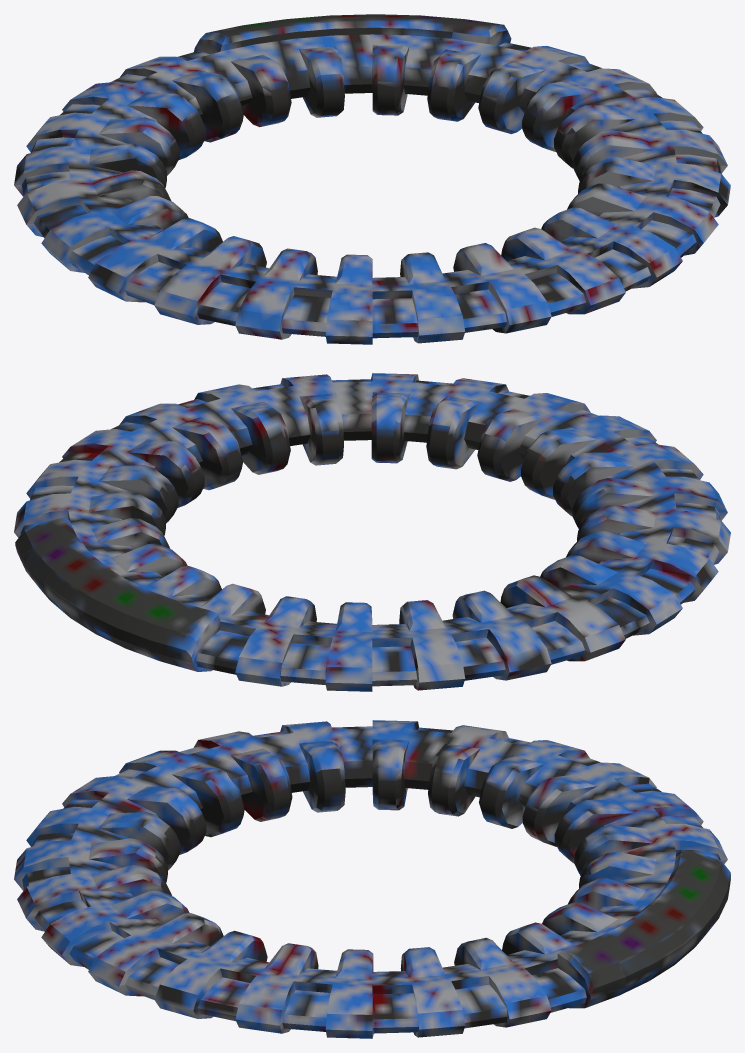
Rendered from Portal.fbx.
The picture shows the model from 3 angles, top to bottom: view 1: azimuth 30°, elevation 25°; view 2: azimuth 150°, elevation 25°; view 3: azimuth 270°, elevation 25°; orthographic projection.
Parts seen in each view (by area): view 1: Torus; view 2: Torus; view 3: Torus.
Part boxes in pixels (x1=…): Torus: x1=14, y1=14, x2=730, y2=344; Torus: x1=14, y1=373, x2=730, y2=691; Torus: x1=14, y1=720, x2=730, y2=1038.
Bounding box in the file's own units: 0.363 × 3.72 × 3.72.
Materials: 1 (1 with a texture image).
